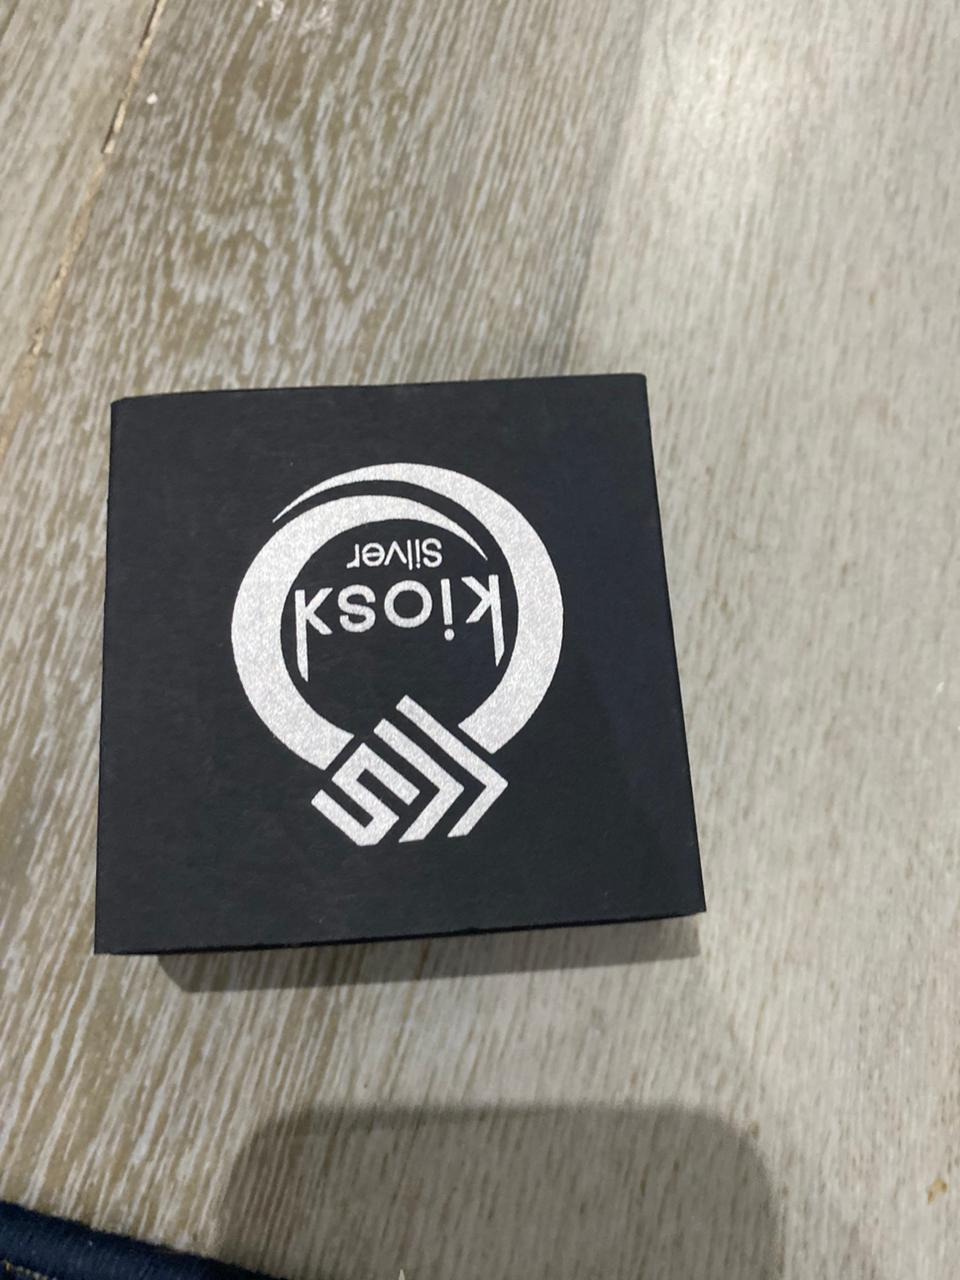Red Box: (78, 372, 721, 970)
